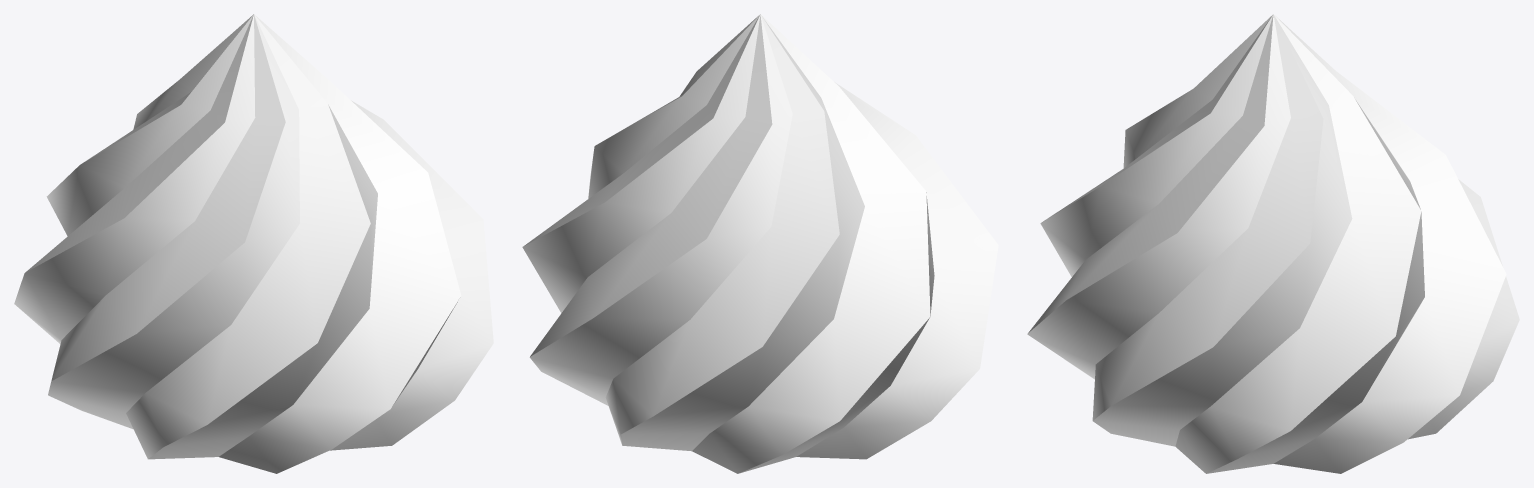
The model's file is CandylandMeringue_01.fbx.
3 views of the same model, side by side, from view 1: azimuth 30°, elevation 25°; view 2: azimuth 150°, elevation 25°; view 3: azimuth 270°, elevation 25° (orthographic).
Parts seen in each view (by area): view 1: CandylandMeringue_01; view 2: CandylandMeringue_01; view 3: CandylandMeringue_01.
Part boxes in pixels (left/top/right/bottom): CandylandMeringue_01: left=14, top=14, right=493, bottom=473; CandylandMeringue_01: left=522, top=14, right=998, bottom=473; CandylandMeringue_01: left=1027, top=14, right=1519, bottom=473.
Bounding box in the file's own units: 0.4944 × 0.4332 × 0.4944.
